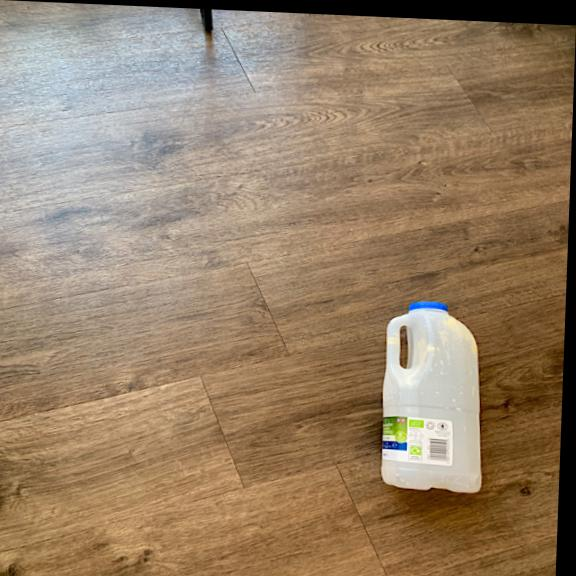Plastik: (367, 298, 490, 496)
